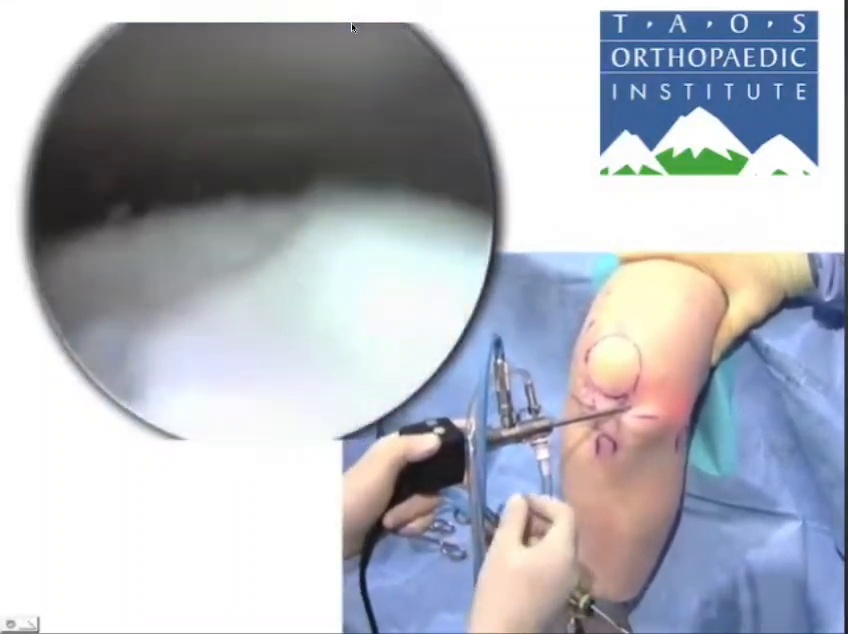arthroscope: (60, 191, 424, 459)
probe: (130, 0, 418, 53), (713, 494, 813, 566)
